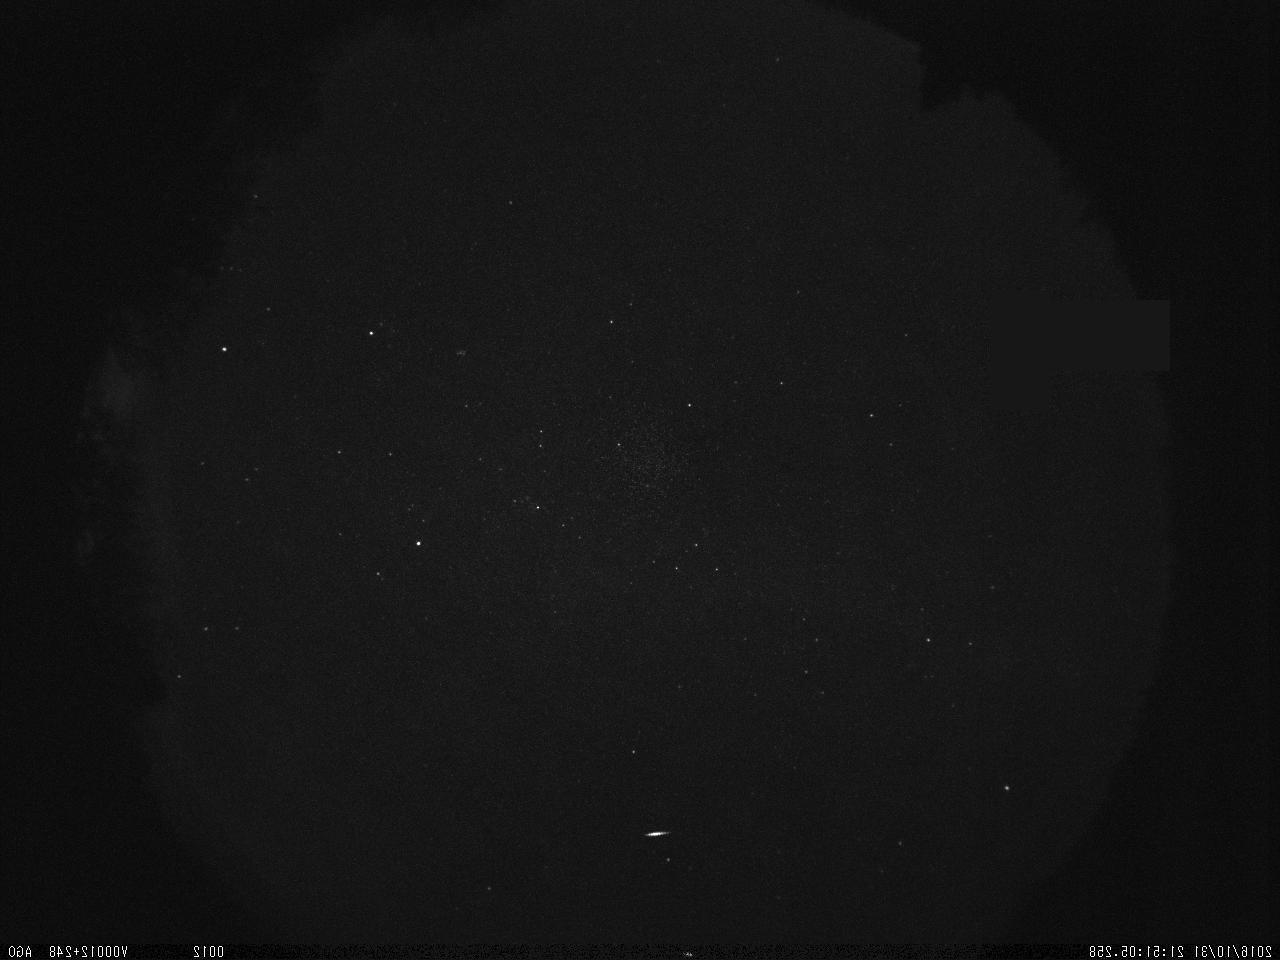meteor: (629, 805, 676, 855)
